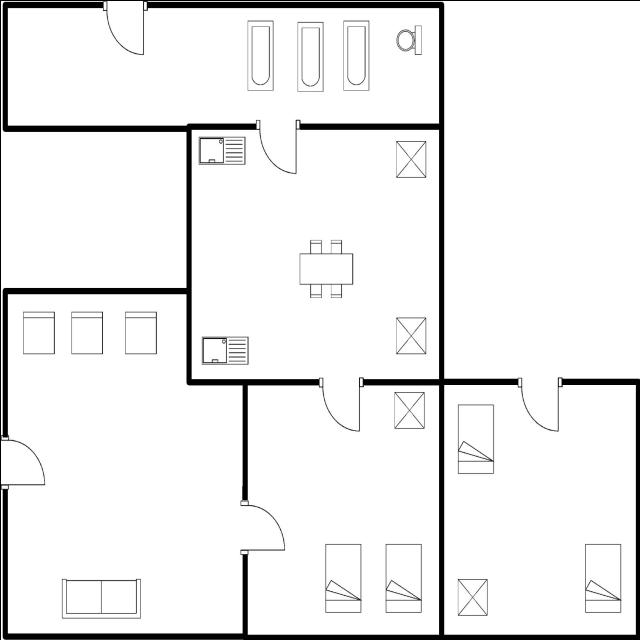bed: (380, 539, 426, 619), (580, 537, 626, 615), (452, 400, 498, 478), (320, 540, 366, 618)
coffee_table: (390, 136, 430, 182), (391, 311, 429, 359), (454, 574, 491, 620), (391, 388, 427, 432)
dining_table: (294, 234, 356, 302)
large_sink: (396, 21, 426, 59)
large_sofa: (58, 574, 144, 622)
sink: (198, 332, 251, 369), (195, 132, 247, 168)
small_sofa: (18, 306, 59, 358), (66, 306, 106, 358), (120, 308, 160, 357)
tub: (339, 15, 373, 95), (243, 15, 277, 94), (294, 16, 326, 94)
